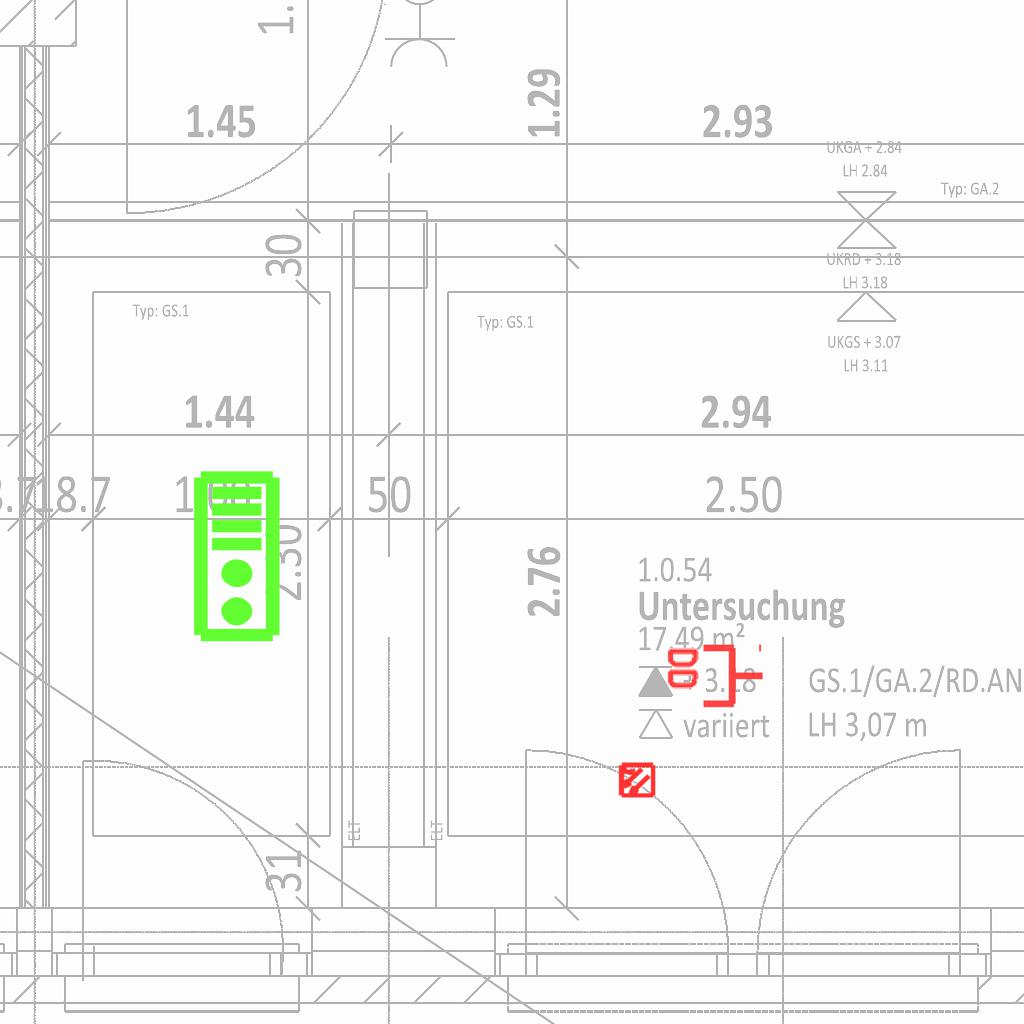Datenanschluss_zweifach: (663, 643, 766, 712)
Gegensprechanlage_mit_Video: (191, 469, 286, 645)
OT_Multisensormelder_(Kombination_RMO_WMD): (608, 752, 664, 808)
